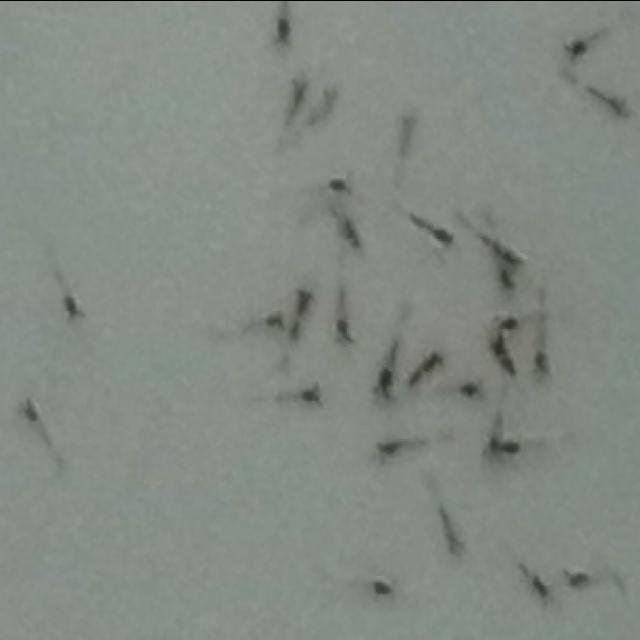shrimp-seed: (585, 84, 633, 122), (436, 506, 468, 562), (287, 286, 319, 340), (406, 214, 453, 248), (516, 564, 555, 604), (406, 351, 447, 389), (285, 70, 313, 124), (308, 85, 341, 130), (562, 560, 598, 596), (395, 110, 423, 156), (338, 212, 370, 252), (370, 364, 400, 406), (484, 235, 530, 262), (491, 336, 516, 382), (491, 258, 521, 295), (560, 34, 594, 66), (376, 435, 411, 465), (322, 170, 356, 200), (368, 575, 402, 605), (270, 15, 296, 52), (332, 316, 358, 352), (60, 289, 88, 322), (486, 424, 506, 470), (18, 395, 46, 427), (532, 340, 554, 380), (299, 381, 325, 413), (264, 304, 290, 336), (461, 375, 488, 405), (492, 311, 524, 335), (490, 438, 522, 461)
